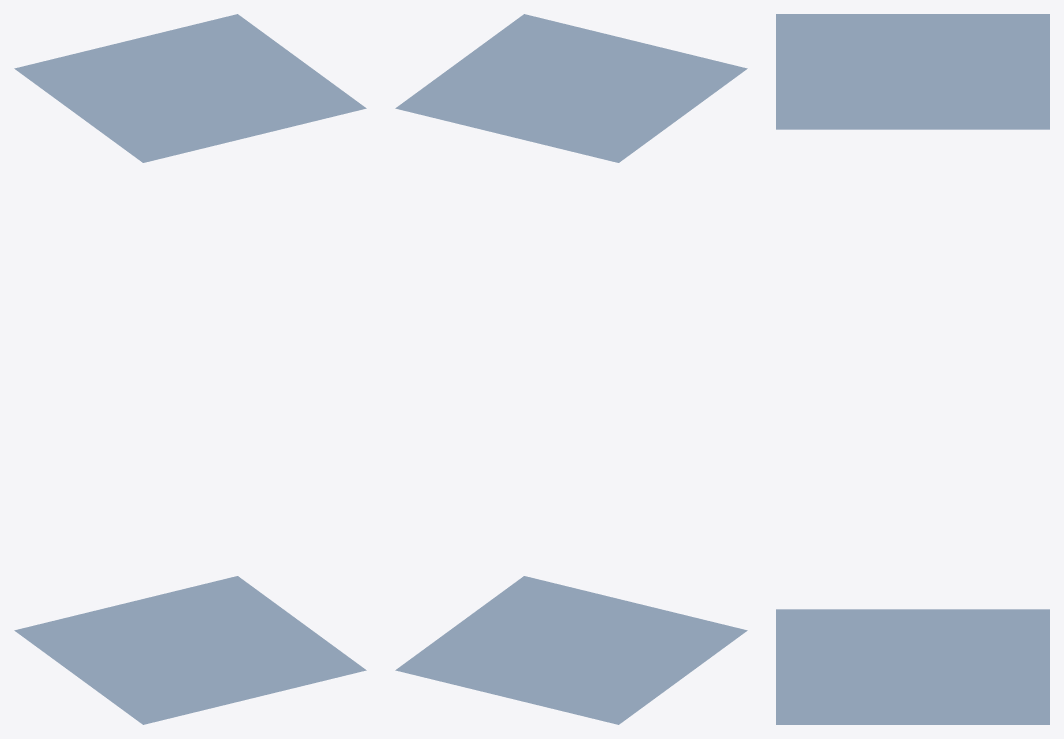
File: preview-v6-animated.glb
The picture shows the model from 3 angles, left to right: view 1: azimuth 30°, elevation 25°; view 2: azimuth 150°, elevation 25°; view 3: azimuth 270°, elevation 25°; orthographic projection. The views are drawn at different scales.
Visible parts, largest first — view 1: base, lid; view 2: base, lid; view 3: base, lid.
Boxes of the visible parts, <box> form: base: <box>14,576,366,724</box>; lid: <box>14,14,366,162</box>; base: <box>395,576,747,724</box>; lid: <box>395,14,747,162</box>; base: <box>776,609,1049,724</box>; lid: <box>776,14,1049,129</box>.
Bounding box in the file's own units: 10 × 24 × 10.
